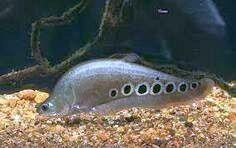Knifefish: (37, 52, 220, 119)
